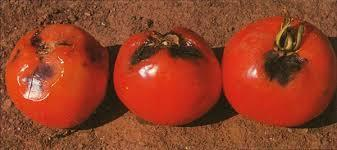tomato early blight: (223, 17, 337, 129), (4, 25, 112, 130), (113, 29, 224, 127)
